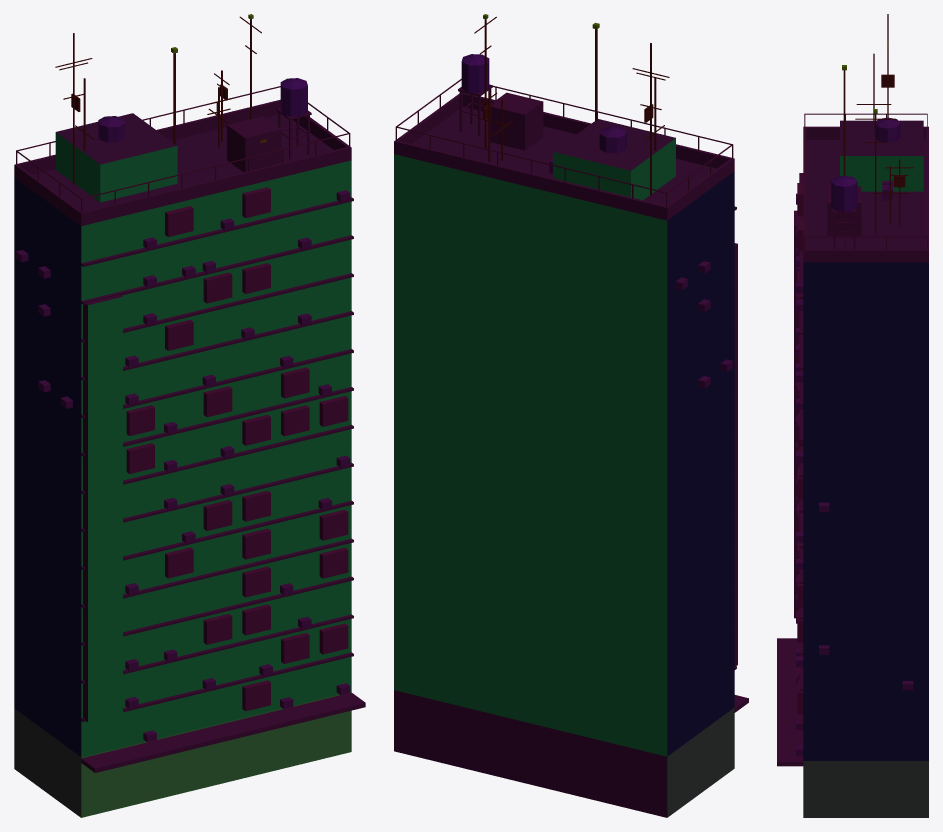
File: slab_k.glb
3 views of the same model, side by side, from view 1: azimuth 30°, elevation 25°; view 2: azimuth 150°, elevation 25°; view 3: azimuth 270°, elevation 25° (orthographic). The views are drawn at different scales.
Parts seen in each view (by area): view 1: slab_k; view 2: slab_k; view 3: slab_k.
Boxes of the visible parts, x1,y1,x2,y2 form: slab_k: (14, 14, 365, 817); slab_k: (394, 14, 748, 817); slab_k: (777, 14, 928, 817).
Bounding box in the file's own units: 23.5 × 58.72 × 11.6.
